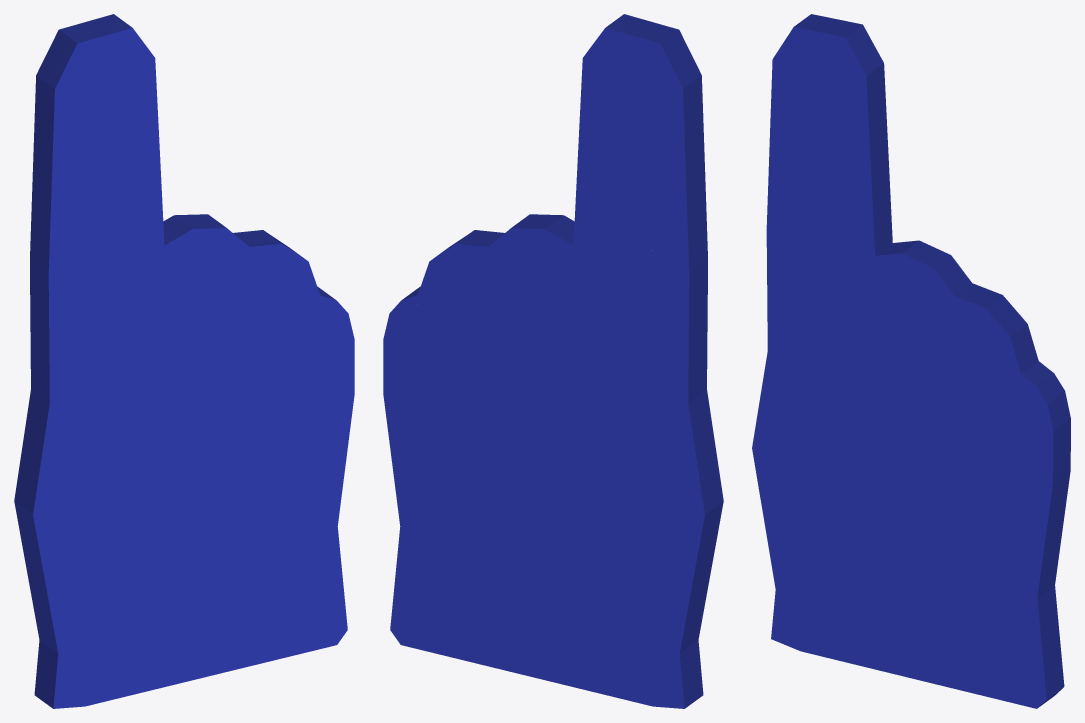
Rendered from DedoEspuma.glb.
3 views of the same model, side by side, from view 1: azimuth 30°, elevation 25°; view 2: azimuth 150°, elevation 25°; view 3: azimuth 330°, elevation 25° (orthographic). The views are drawn at different scales.
Parts seen in each view (by area): view 1: Cube; view 2: Cube; view 3: Cube.
Boxes of the visible parts, bbox=[...] form: Cube: bbox=[14, 14, 354, 708]; Cube: bbox=[383, 14, 723, 708]; Cube: bbox=[752, 14, 1070, 708].
Size of the model in its own units: 2.13 by 4.21 by 0.2155.
Materials: 1 (1 with a texture image).
